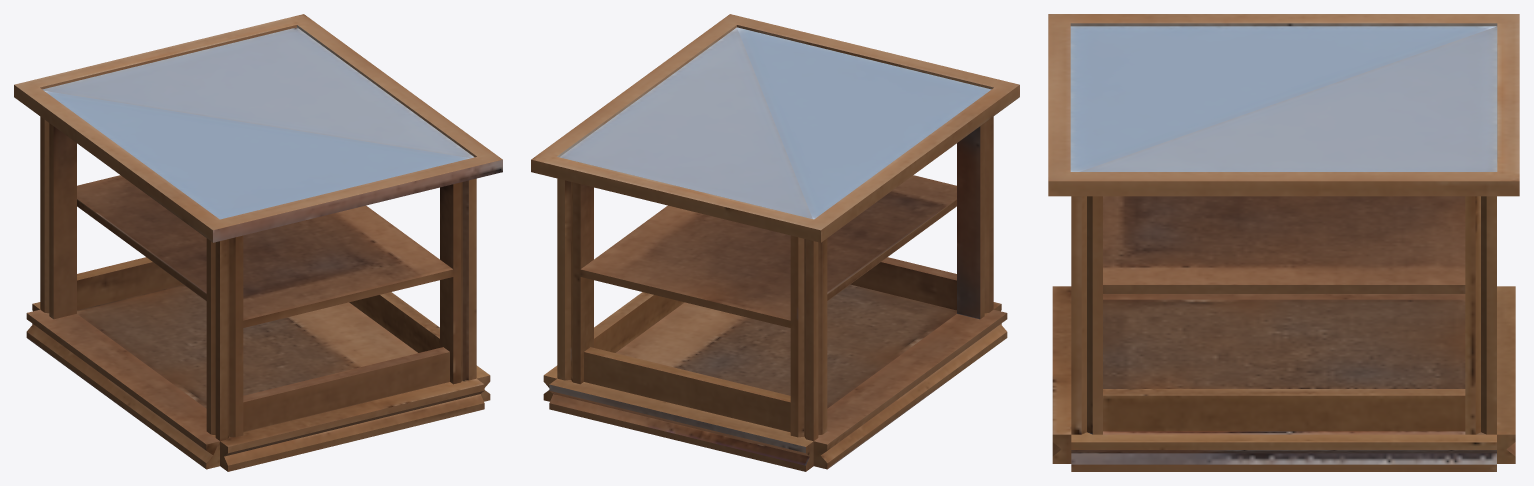
The picture shows the model from 3 angles, left to right: view 1: azimuth 30°, elevation 25°; view 2: azimuth 150°, elevation 25°; view 3: azimuth 270°, elevation 25°; orthographic projection. The views are drawn at different scales.
Parts seen in each view (by area): view 1: Node; view 2: Node; view 3: Node.
Boxes of the visible parts, x1,y1,x2,y2 form: Node: (14, 14, 502, 471); Node: (531, 14, 1019, 471); Node: (1048, 14, 1519, 471).
Size of the model in its own units: 0.5887 by 0.4792 by 0.7.
Materials: 1 (1 with a texture image).
